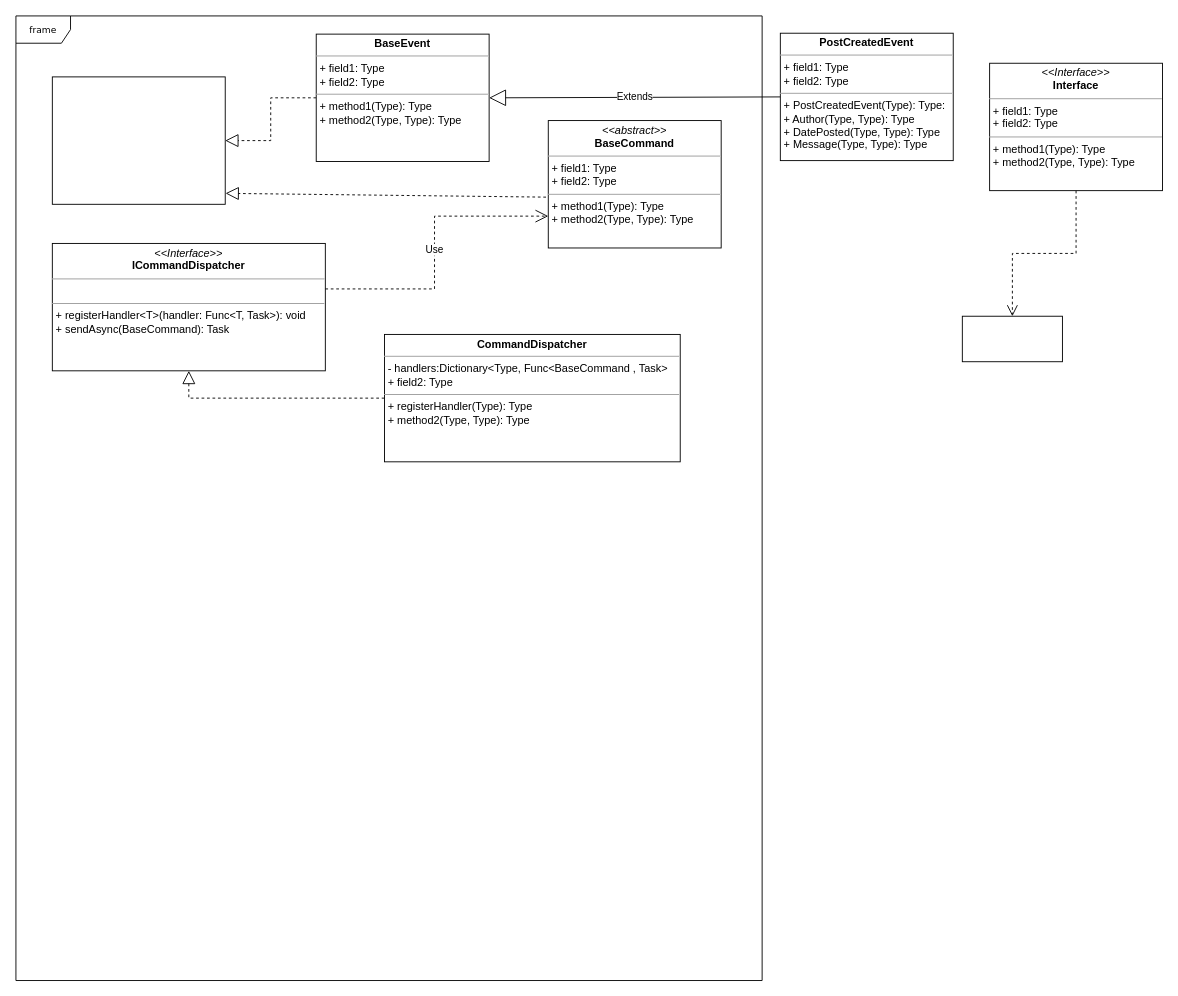
The diagram is 1178 pixels wide and 996 high, and some of its shapes have lost their labels. Here are the shapes that lost their labels. From the top down, the centre of each, then its label:
At pixel 138 140: "<<abstract>> Message + Id: Guid".
At pixel 1011 338: "«interface» Name".
